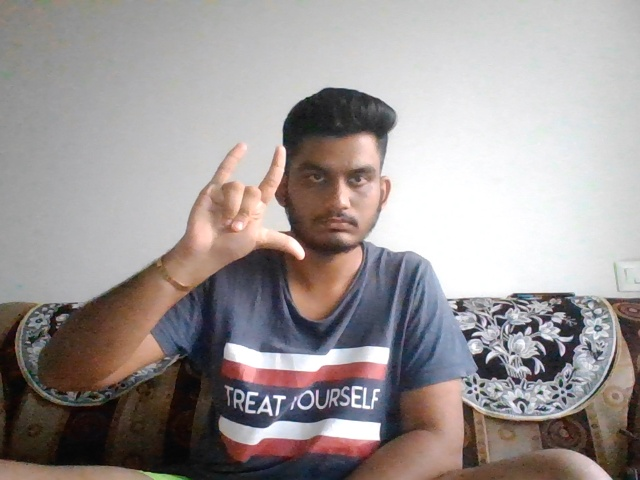I Love You: (171, 143, 308, 275)
